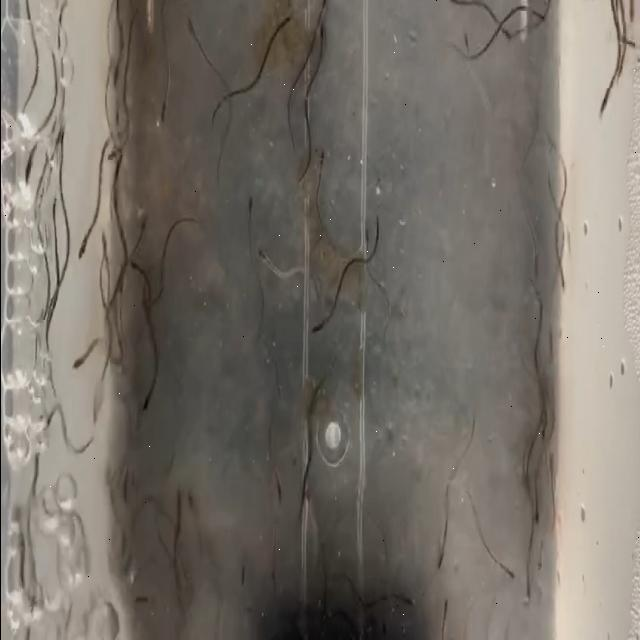active_glass_eel: (597, 76, 615, 118), (172, 474, 188, 521), (76, 228, 94, 268), (114, 461, 130, 506), (186, 15, 204, 49), (621, 14, 631, 74), (100, 234, 114, 276), (272, 472, 286, 510), (524, 572, 536, 616), (438, 538, 454, 571), (138, 289, 158, 315), (316, 140, 328, 183), (318, 22, 332, 58), (276, 10, 294, 38), (157, 98, 171, 134), (20, 150, 33, 188), (49, 197, 63, 232), (463, 28, 477, 62), (106, 142, 124, 168), (313, 0, 329, 29), (258, 243, 274, 272), (68, 354, 90, 375), (500, 554, 514, 586), (140, 385, 152, 422), (309, 316, 326, 342), (530, 248, 542, 284), (140, 208, 152, 244), (186, 487, 198, 523), (440, 592, 454, 622), (56, 114, 66, 156), (558, 262, 570, 296), (362, 230, 374, 263), (536, 542, 546, 580), (532, 6, 550, 27), (505, 21, 518, 50), (544, 318, 554, 354), (530, 496, 542, 526), (108, 59, 120, 88), (246, 188, 256, 222), (302, 486, 312, 520), (538, 411, 547, 443), (402, 592, 418, 610), (132, 592, 148, 610), (238, 560, 252, 580)
